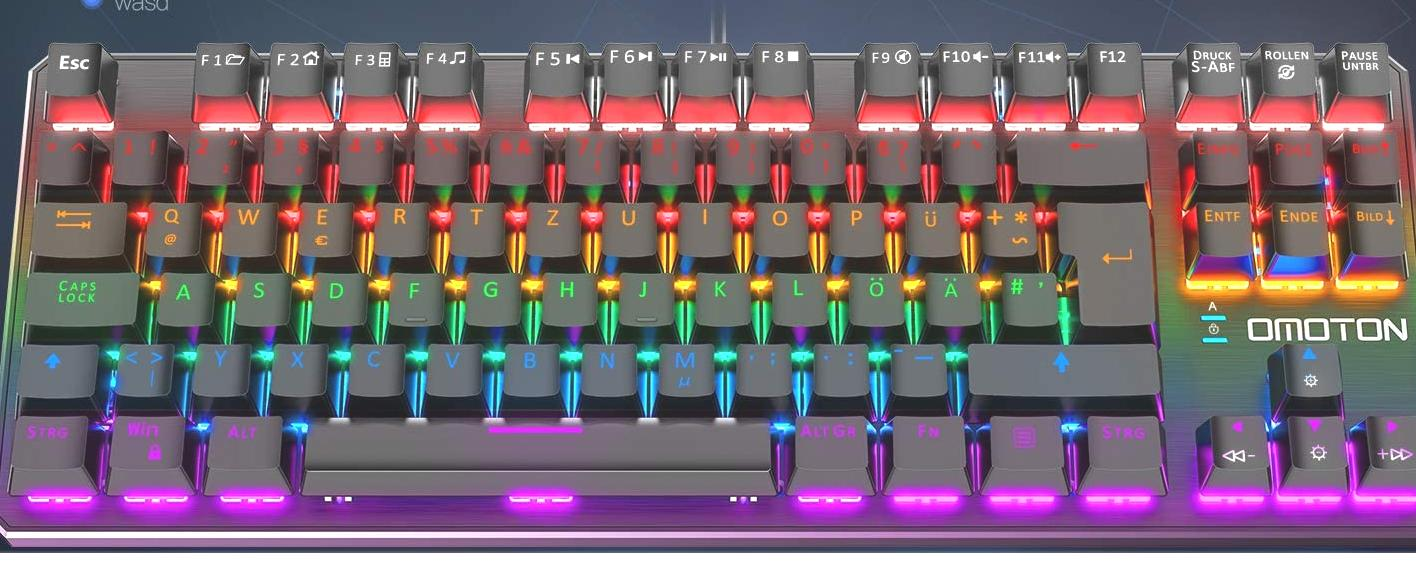0: (786, 125, 846, 184)
1: (107, 125, 165, 184)
2: (184, 126, 242, 185)
3: (259, 125, 317, 185)
4: (335, 126, 392, 184)
5: (410, 125, 468, 185)
6: (485, 127, 543, 184)
7: (561, 127, 618, 184)
8: (636, 126, 693, 185)
9: (710, 125, 769, 184)
a: (153, 269, 212, 325)
accent: (938, 127, 996, 184)
ae: (922, 270, 981, 325)
alt-left: (201, 410, 283, 483)
altgr-right: (787, 414, 872, 487)
b: (499, 339, 559, 396)
c: (343, 339, 404, 396)
caret: (32, 131, 89, 183)
comma: (733, 340, 791, 396)
d: (306, 269, 365, 326)
del: (1012, 127, 1145, 184)
e: (293, 198, 352, 256)
enter: (1055, 194, 1154, 328)
f: (384, 270, 442, 326)
g: (461, 270, 519, 326)
h: (538, 271, 595, 325)
hash: (1000, 269, 1057, 327)
i: (674, 198, 732, 255)
j: (615, 270, 672, 326)
k: (691, 269, 751, 326)
keyboard: (1, 28, 1416, 535)
l: (768, 270, 827, 325)
less: (111, 340, 172, 396)
m: (653, 338, 714, 397)
minus: (888, 341, 947, 396)
n: (577, 339, 636, 396)
o: (750, 198, 808, 255)
oe: (845, 270, 904, 326)
p: (826, 198, 884, 255)
plus: (979, 199, 1038, 259)
point: (810, 340, 868, 396)
q: (140, 198, 200, 257)
r: (369, 198, 427, 256)
s: (230, 269, 288, 325)
shift-left: (11, 340, 96, 397)
shift-lock: (20, 269, 138, 325)
shift-right: (962, 340, 1160, 395)
space: (292, 418, 778, 471)
ss: (862, 128, 920, 185)
strg-left: (7, 411, 87, 469)
strg-right: (1081, 410, 1164, 487)
t: (446, 198, 502, 255)
tab: (28, 197, 126, 256)
u: (598, 198, 656, 256)
ue: (901, 197, 959, 256)
v: (422, 339, 481, 396)
w: (218, 199, 275, 257)
x: (266, 340, 325, 396)
y: (188, 340, 248, 395)
z: (522, 198, 579, 256)
